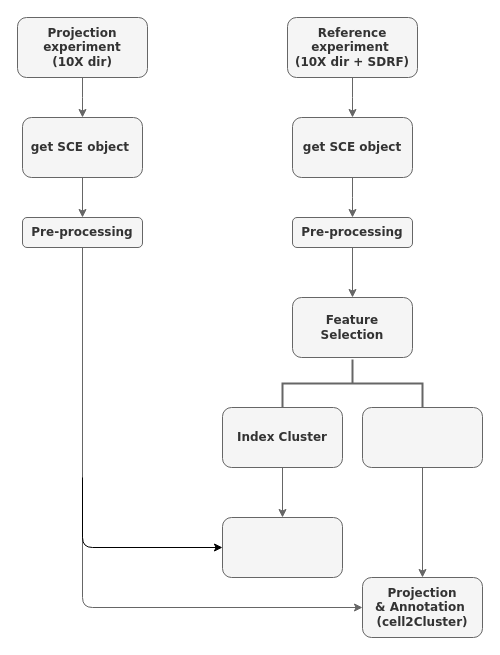
Image size: 500x655. Some labels were removed from this diagram. The centre of each missing label's shape, as x and y in pixels:
"Index Cell" belongs at point (422, 437).
"Projection" belongs at point (282, 547).
